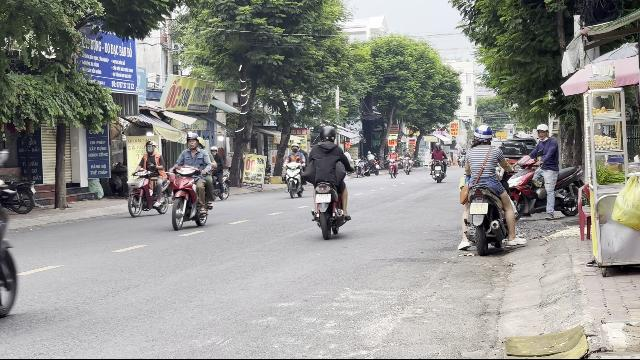helmet: (472, 125, 492, 145), (318, 125, 336, 143), (185, 131, 199, 149), (144, 140, 156, 156)
licenseplate: (470, 204, 488, 214), (316, 194, 330, 202)
motorcyclist: (455, 124, 519, 255), (509, 124, 587, 221), (307, 124, 353, 238), (166, 131, 214, 231), (125, 139, 169, 217)
nohelmet: (533, 122, 551, 142)
